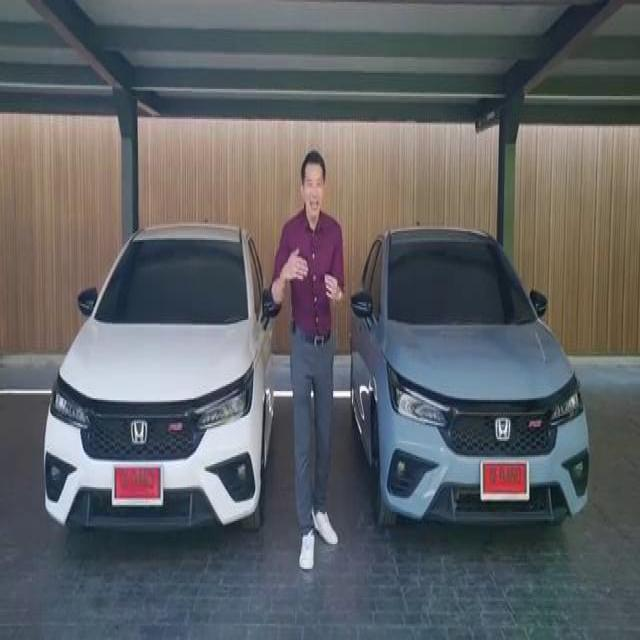Hatchback: (351, 228, 589, 523), (45, 224, 273, 528)
